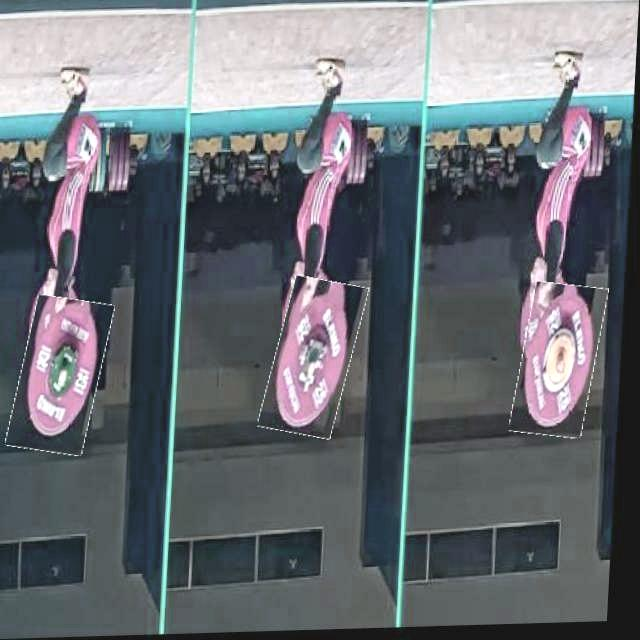barbell: (270, 280, 367, 440), (16, 296, 113, 455), (520, 286, 609, 442)
